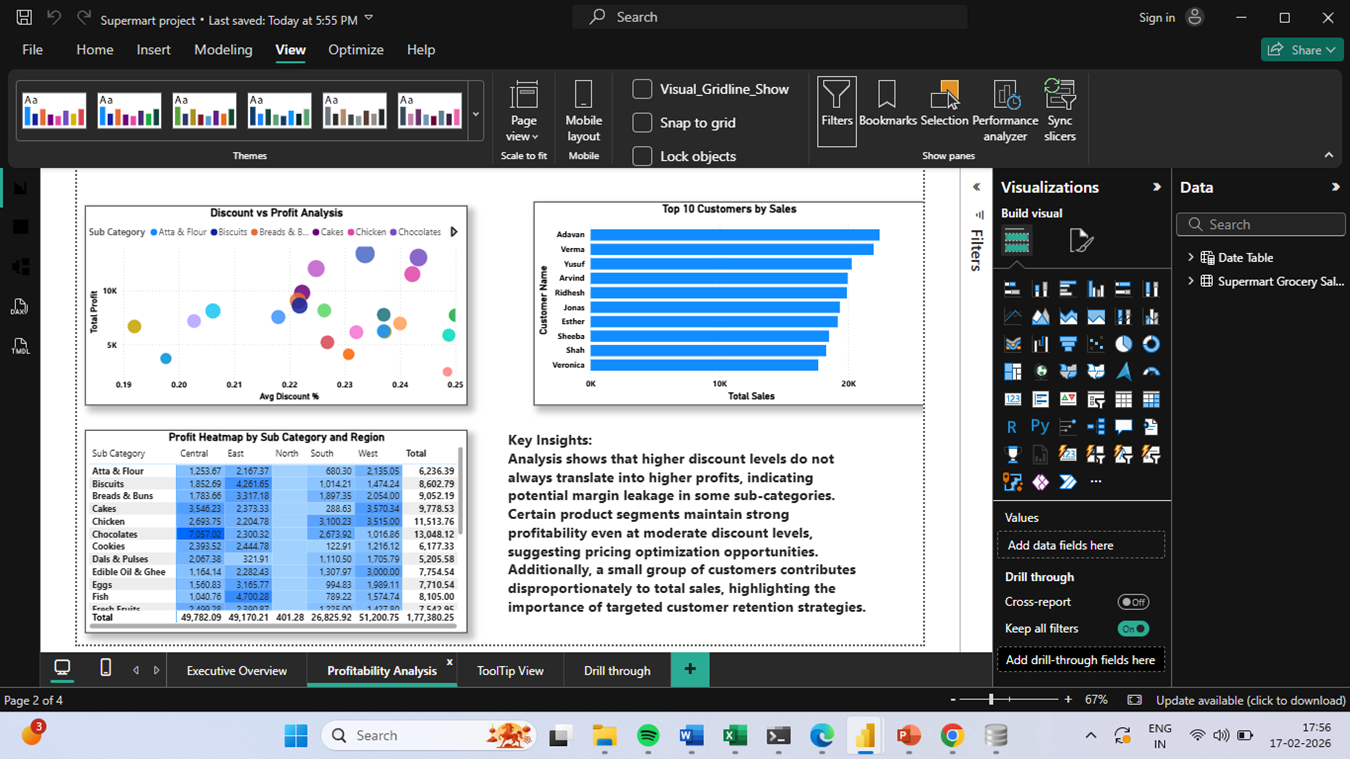

The page's visual inventory and layout, read from the dashboard file:
{"tool":"powerbi","page":{"name":"Profitability Analysis","canvas":[1280,720],"ordinal":1},"visuals":[{"type":"scatterChart","title":"Discount vs Profit Analysis","fields":{"X":["Date Table.Avg Discount %"],"Y":["Supermart Grocery Sales - Retail Analytics Dataset (1).Total Profit"],"Size":["Supermart Grocery Sales - Retail Analytics Dataset (1).Total Sales"],"Category":["Supermart Grocery Sales - Retail Analytics Dataset (1).Sub Category"],"Series":["Supermart Grocery Sales - Retail Analytics Dataset (1).Sub Category"]},"box":[11.8,57.1,577.8,302.4],"z":0},{"type":"clusteredBarChart","title":"Top 10 Customers by Sales","fields":{"Category":["Supermart Grocery Sales - Retail Analytics Dataset (1).Customer Name"],"Y":["Supermart Grocery Sales - Retail Analytics Dataset (1).Total Sales"]},"box":[690.1,50.8,590,307.7],"z":1000},{"type":"pivotTable","title":"Profit Heatmap by Sub Category and Region","fields":{"Rows":["Supermart Grocery Sales - Retail Analytics Dataset (1).Sub Category"],"Columns":["Supermart Grocery Sales - Retail Analytics Dataset (1).Region"],"Values":["Supermart Grocery Sales - Retail Analytics Dataset (1).Total Profit"]},"box":[11.8,396.4,577.8,307.4],"z":2000},{"type":"textbox","box":[640,384.7,574.5,319.2],"z":3000}]}

Visuals, with their boxes on the page's 1280x720 design canvas (x1, y1, x2, y2). These are canvas units, not pixel positions in the 1350x759 screenshot, which may show the page scaled, cropped or inside an application window:
"Discount vs Profit Analysis" scatterChart: <bbox>12, 57, 590, 360</bbox>
"Top 10 Customers by Sales" clusteredBarChart: <bbox>690, 51, 1280, 358</bbox>
"Profit Heatmap by Sub Category and Region" pivotTable: <bbox>12, 396, 590, 704</bbox>
textbox: <bbox>640, 385, 1214, 704</bbox>
